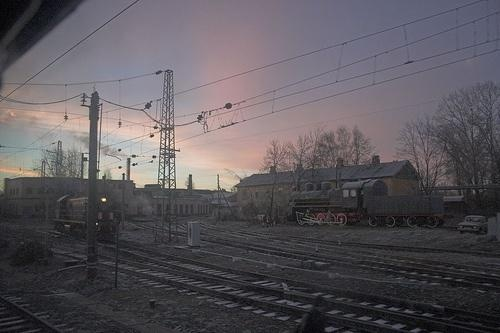car: (458, 210, 491, 237)
train: (282, 178, 450, 236), (53, 187, 126, 243)
